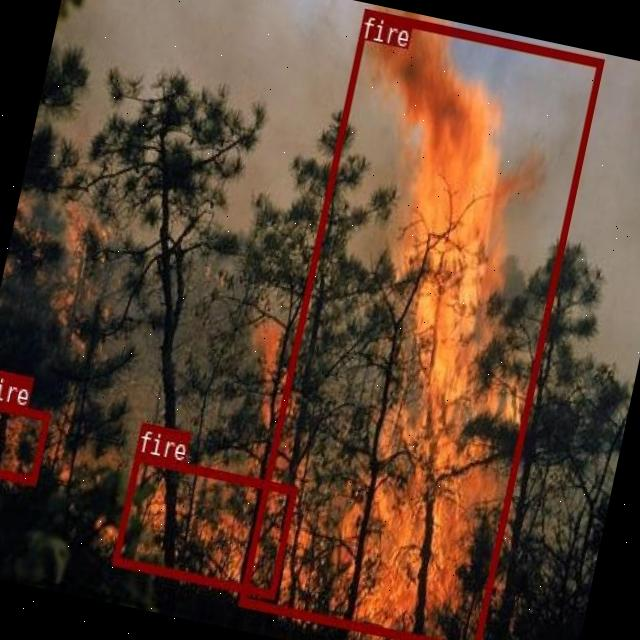fire: (237, 7, 602, 640), (111, 452, 296, 597), (0, 395, 49, 484)
